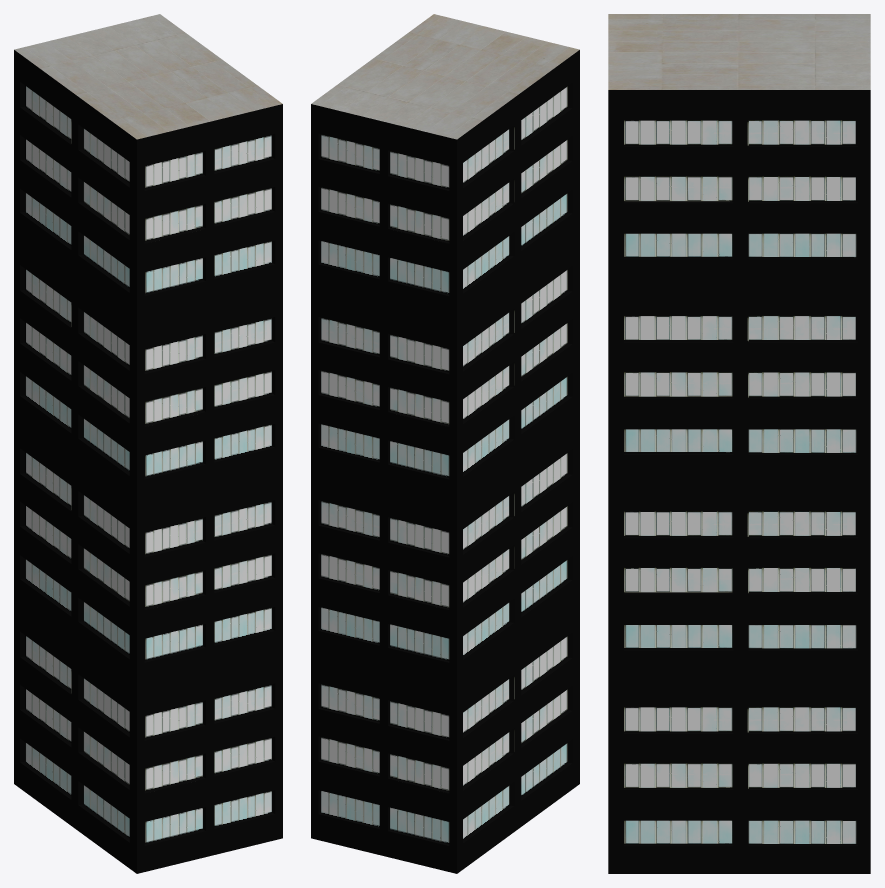
The model's file is house22.FBX.
3 views of the same model, side by side, from view 1: azimuth 30°, elevation 25°; view 2: azimuth 150°, elevation 25°; view 3: azimuth 270°, elevation 25° (orthographic). The views are drawn at different scales.
Visible parts, largest first — view 1: Box001; view 2: Box001; view 3: Box001.
Part boxes in pixels (x1,y1,x2,y2): Box001: [14, 14, 282, 873]; Box001: [311, 14, 579, 873]; Box001: [608, 14, 870, 873].
Bounding box in the file's own units: 116 × 558 × 169.
